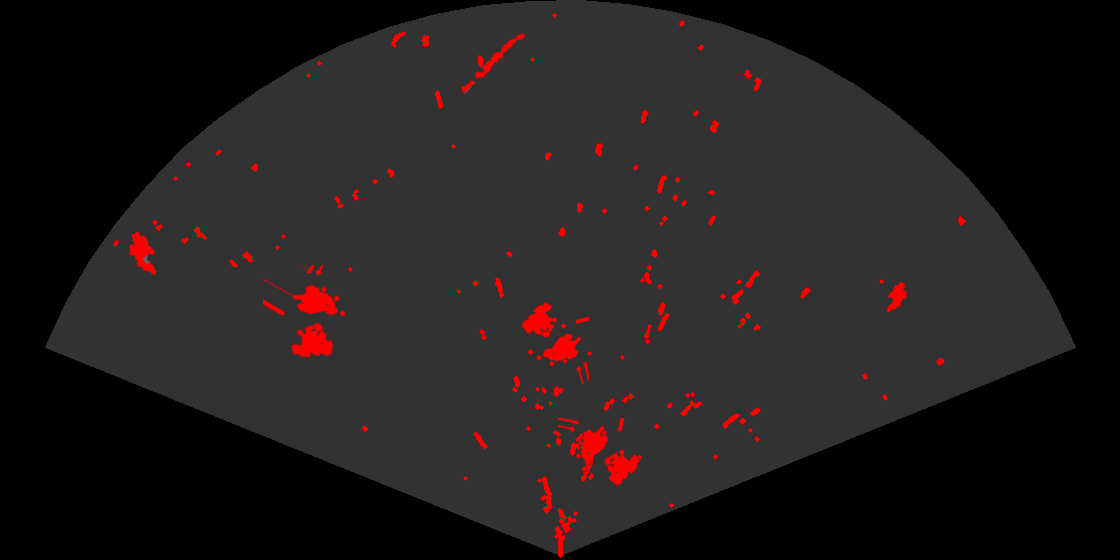AUV: (127, 230, 158, 276), (885, 280, 909, 314)
cage: (263, 265, 347, 359), (520, 300, 589, 384), (558, 418, 641, 487)
chain: (453, 32, 527, 100)
